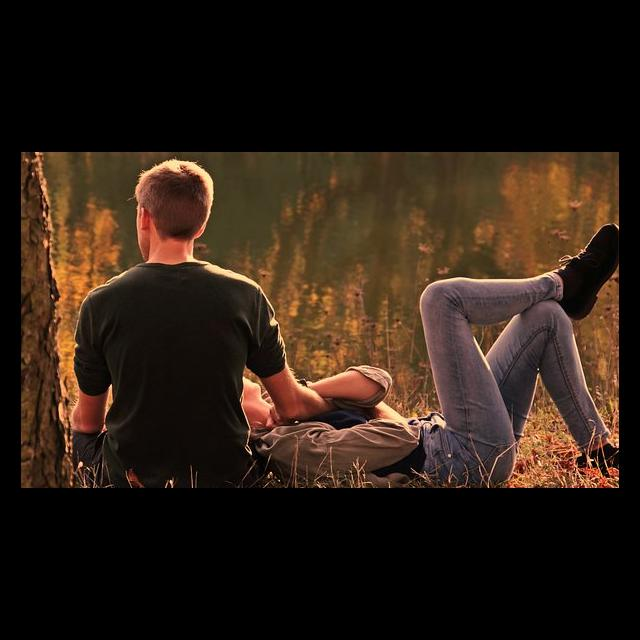male: (118, 152, 226, 272)
